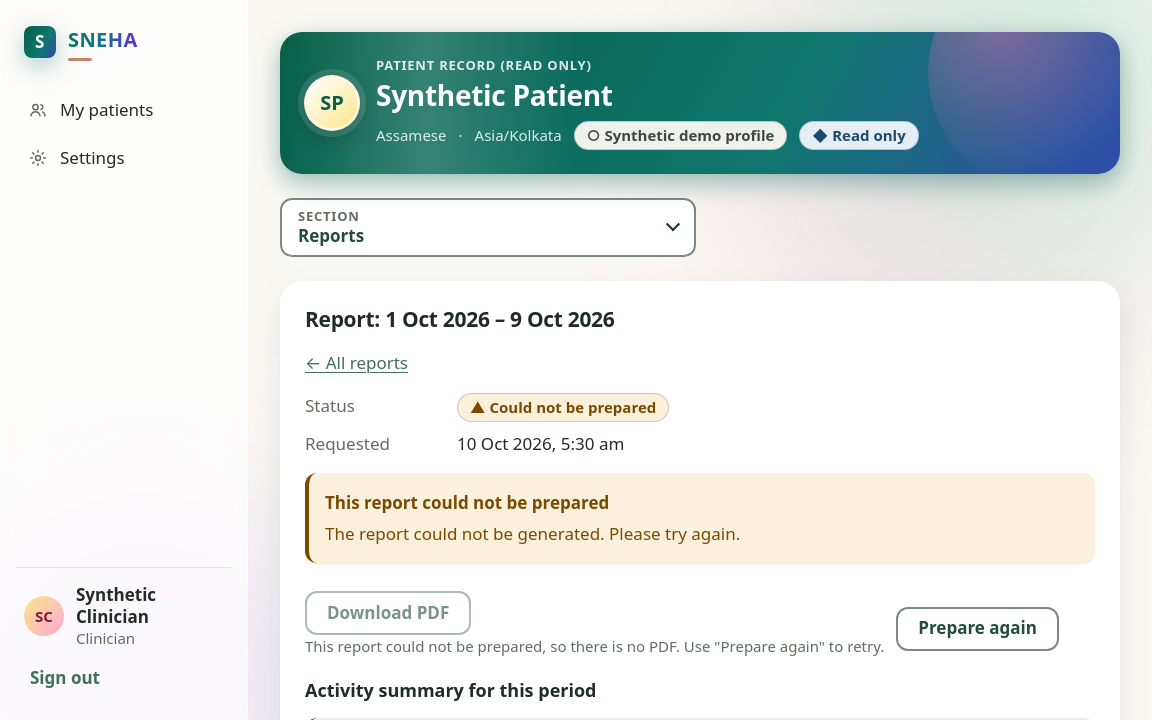
Test case: reports › retry conflict (already ready) shows the server message
The image size is (1152, 720).
What coordinates should you click on to do the following:
click the button "Prepare again"
I would click on:
 (978, 629)
Its box is [896, 607, 1059, 651].
(page scrolled)
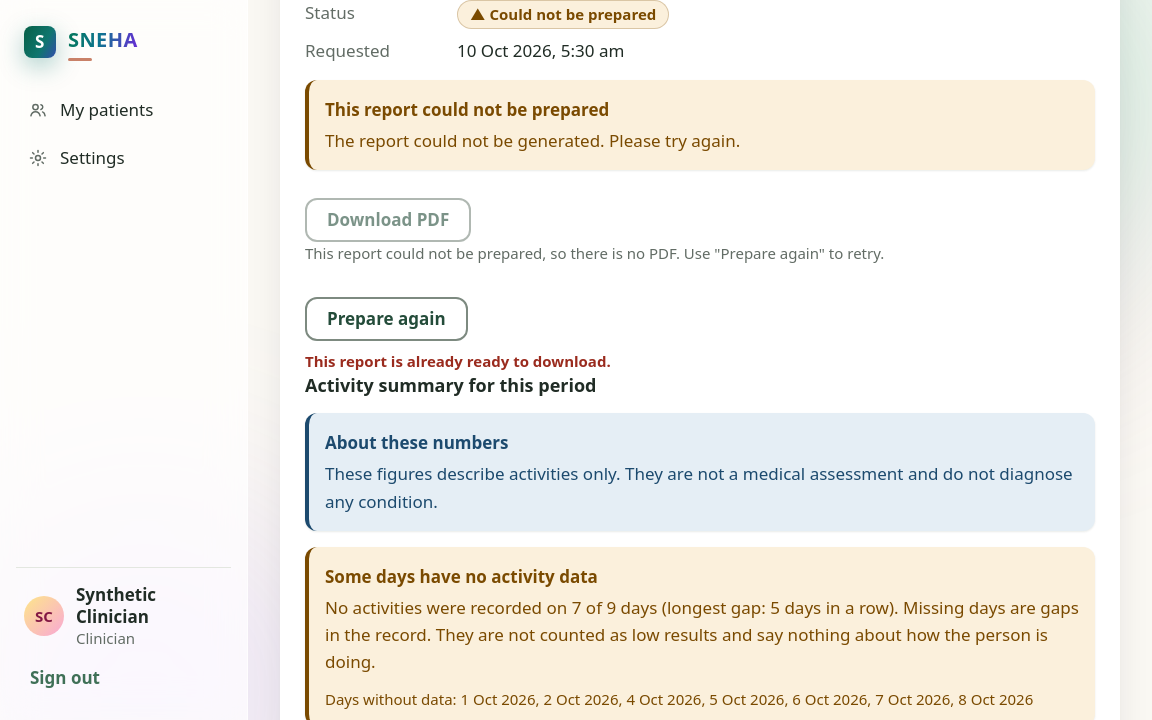
Expected: the text "This report is already ready to download." is shown, [305, 349, 611, 373]
